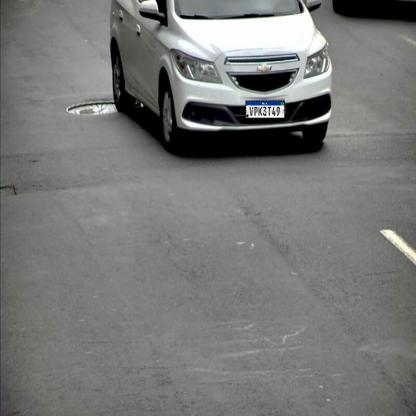PlacaM: (245, 100, 285, 118)
